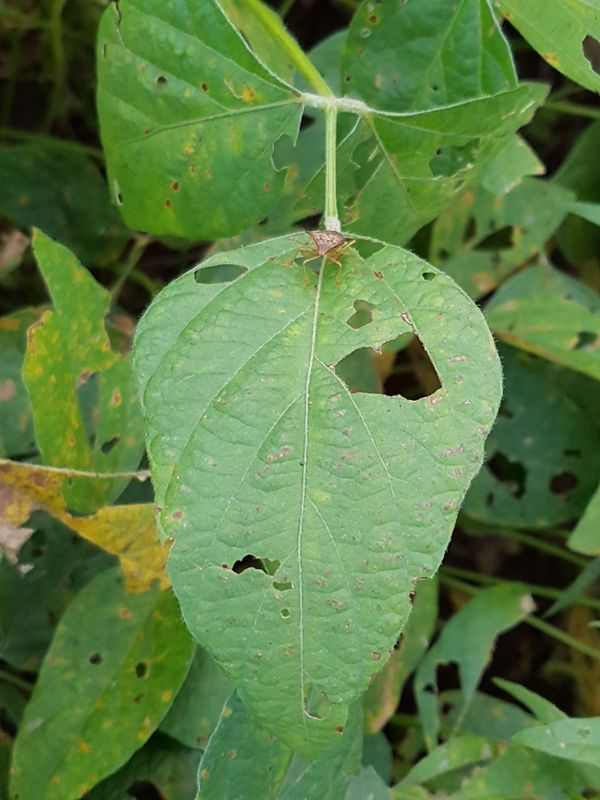Euschistus_heros_adulto: (280, 218, 362, 282)
